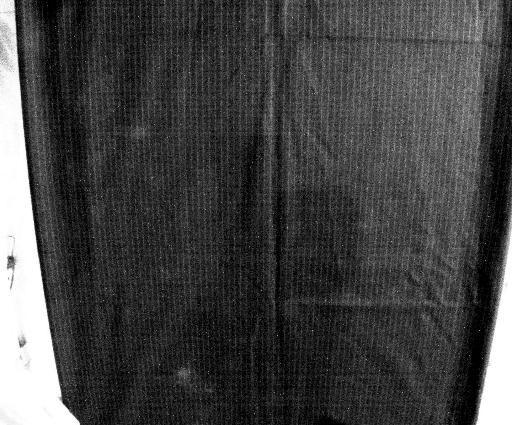fabric_perfect: (0, 2, 512, 425)
